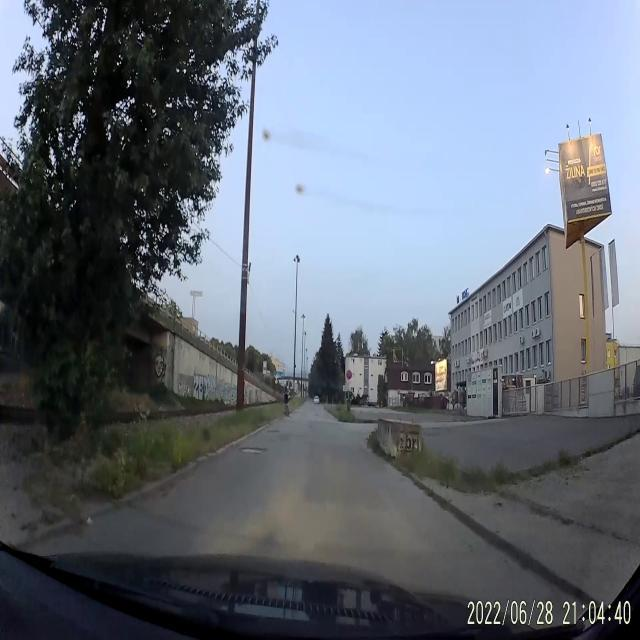Manhole: (266, 428, 280, 433)
Pothole: (238, 444, 268, 454)
